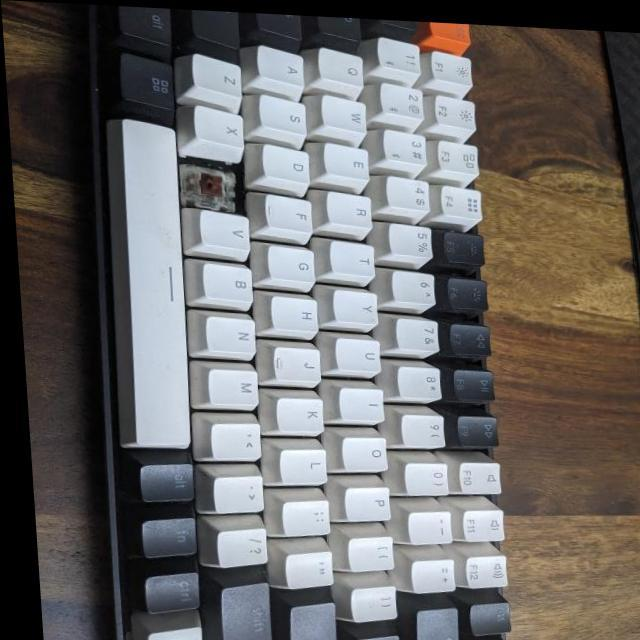key-switch: (176, 162, 239, 209)
